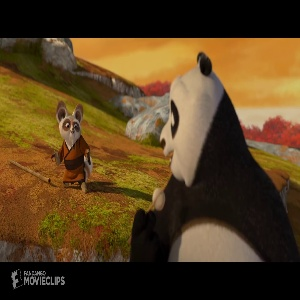po: (128, 49, 300, 261)
shifu: (49, 99, 97, 194)
